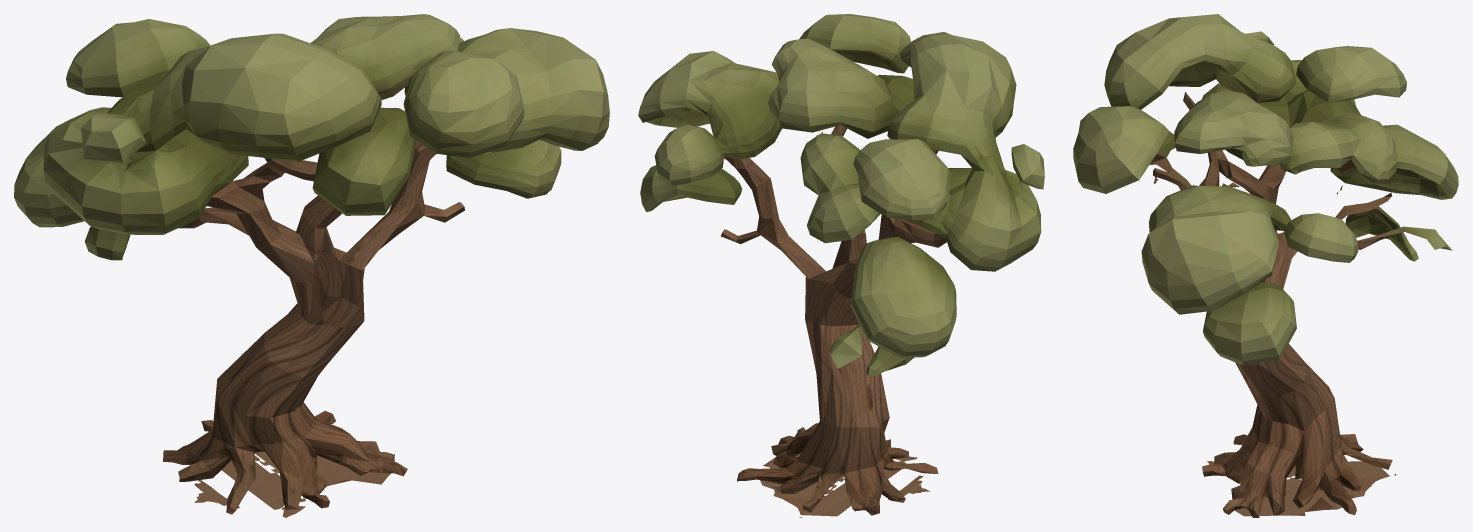
The model's file is tree4.obj.
3 renders of one model, left to right at view 1: azimuth 30°, elevation 25°; view 2: azimuth 150°, elevation 25°; view 3: azimuth 270°, elevation 25°, orthographic. The views are drawn at different scales.
Parts seen in each view (by area): view 1: tripo_node_7bbfb6fe-8298-428e-b214-6cdc73e577e3; view 2: tripo_node_7bbfb6fe-8298-428e-b214-6cdc73e577e3; view 3: tripo_node_7bbfb6fe-8298-428e-b214-6cdc73e577e3.
Part boxes in pixels (bbox=[...]): tripo_node_7bbfb6fe-8298-428e-b214-6cdc73e577e3: bbox=[14, 14, 609, 517]; tripo_node_7bbfb6fe-8298-428e-b214-6cdc73e577e3: bbox=[638, 14, 1044, 517]; tripo_node_7bbfb6fe-8298-428e-b214-6cdc73e577e3: bbox=[1073, 14, 1458, 517].
Size of the model in its own units: 0.9925 by 0.9547 by 0.7763.
